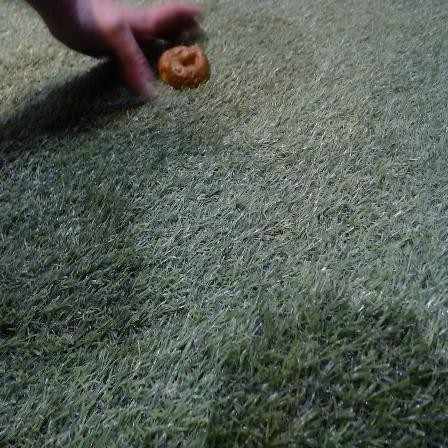dog-poop: (153, 43, 214, 87)
